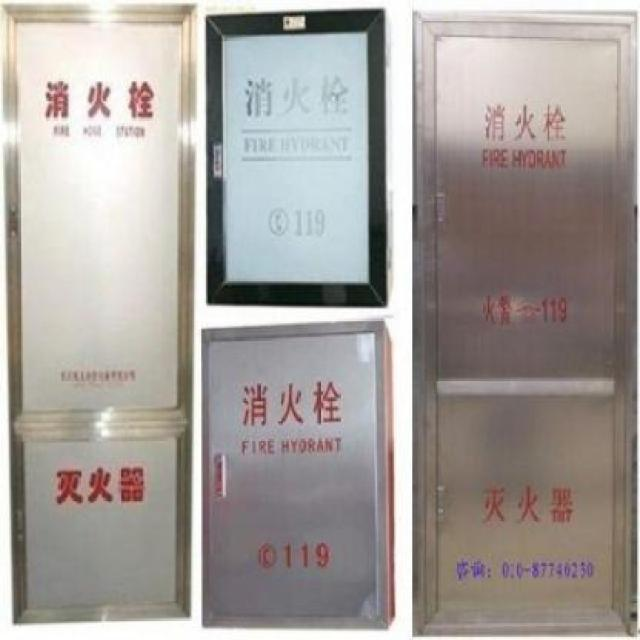firehydrant: (409, 0, 640, 640), (0, 0, 201, 628), (198, 312, 400, 636), (201, 0, 398, 315)
